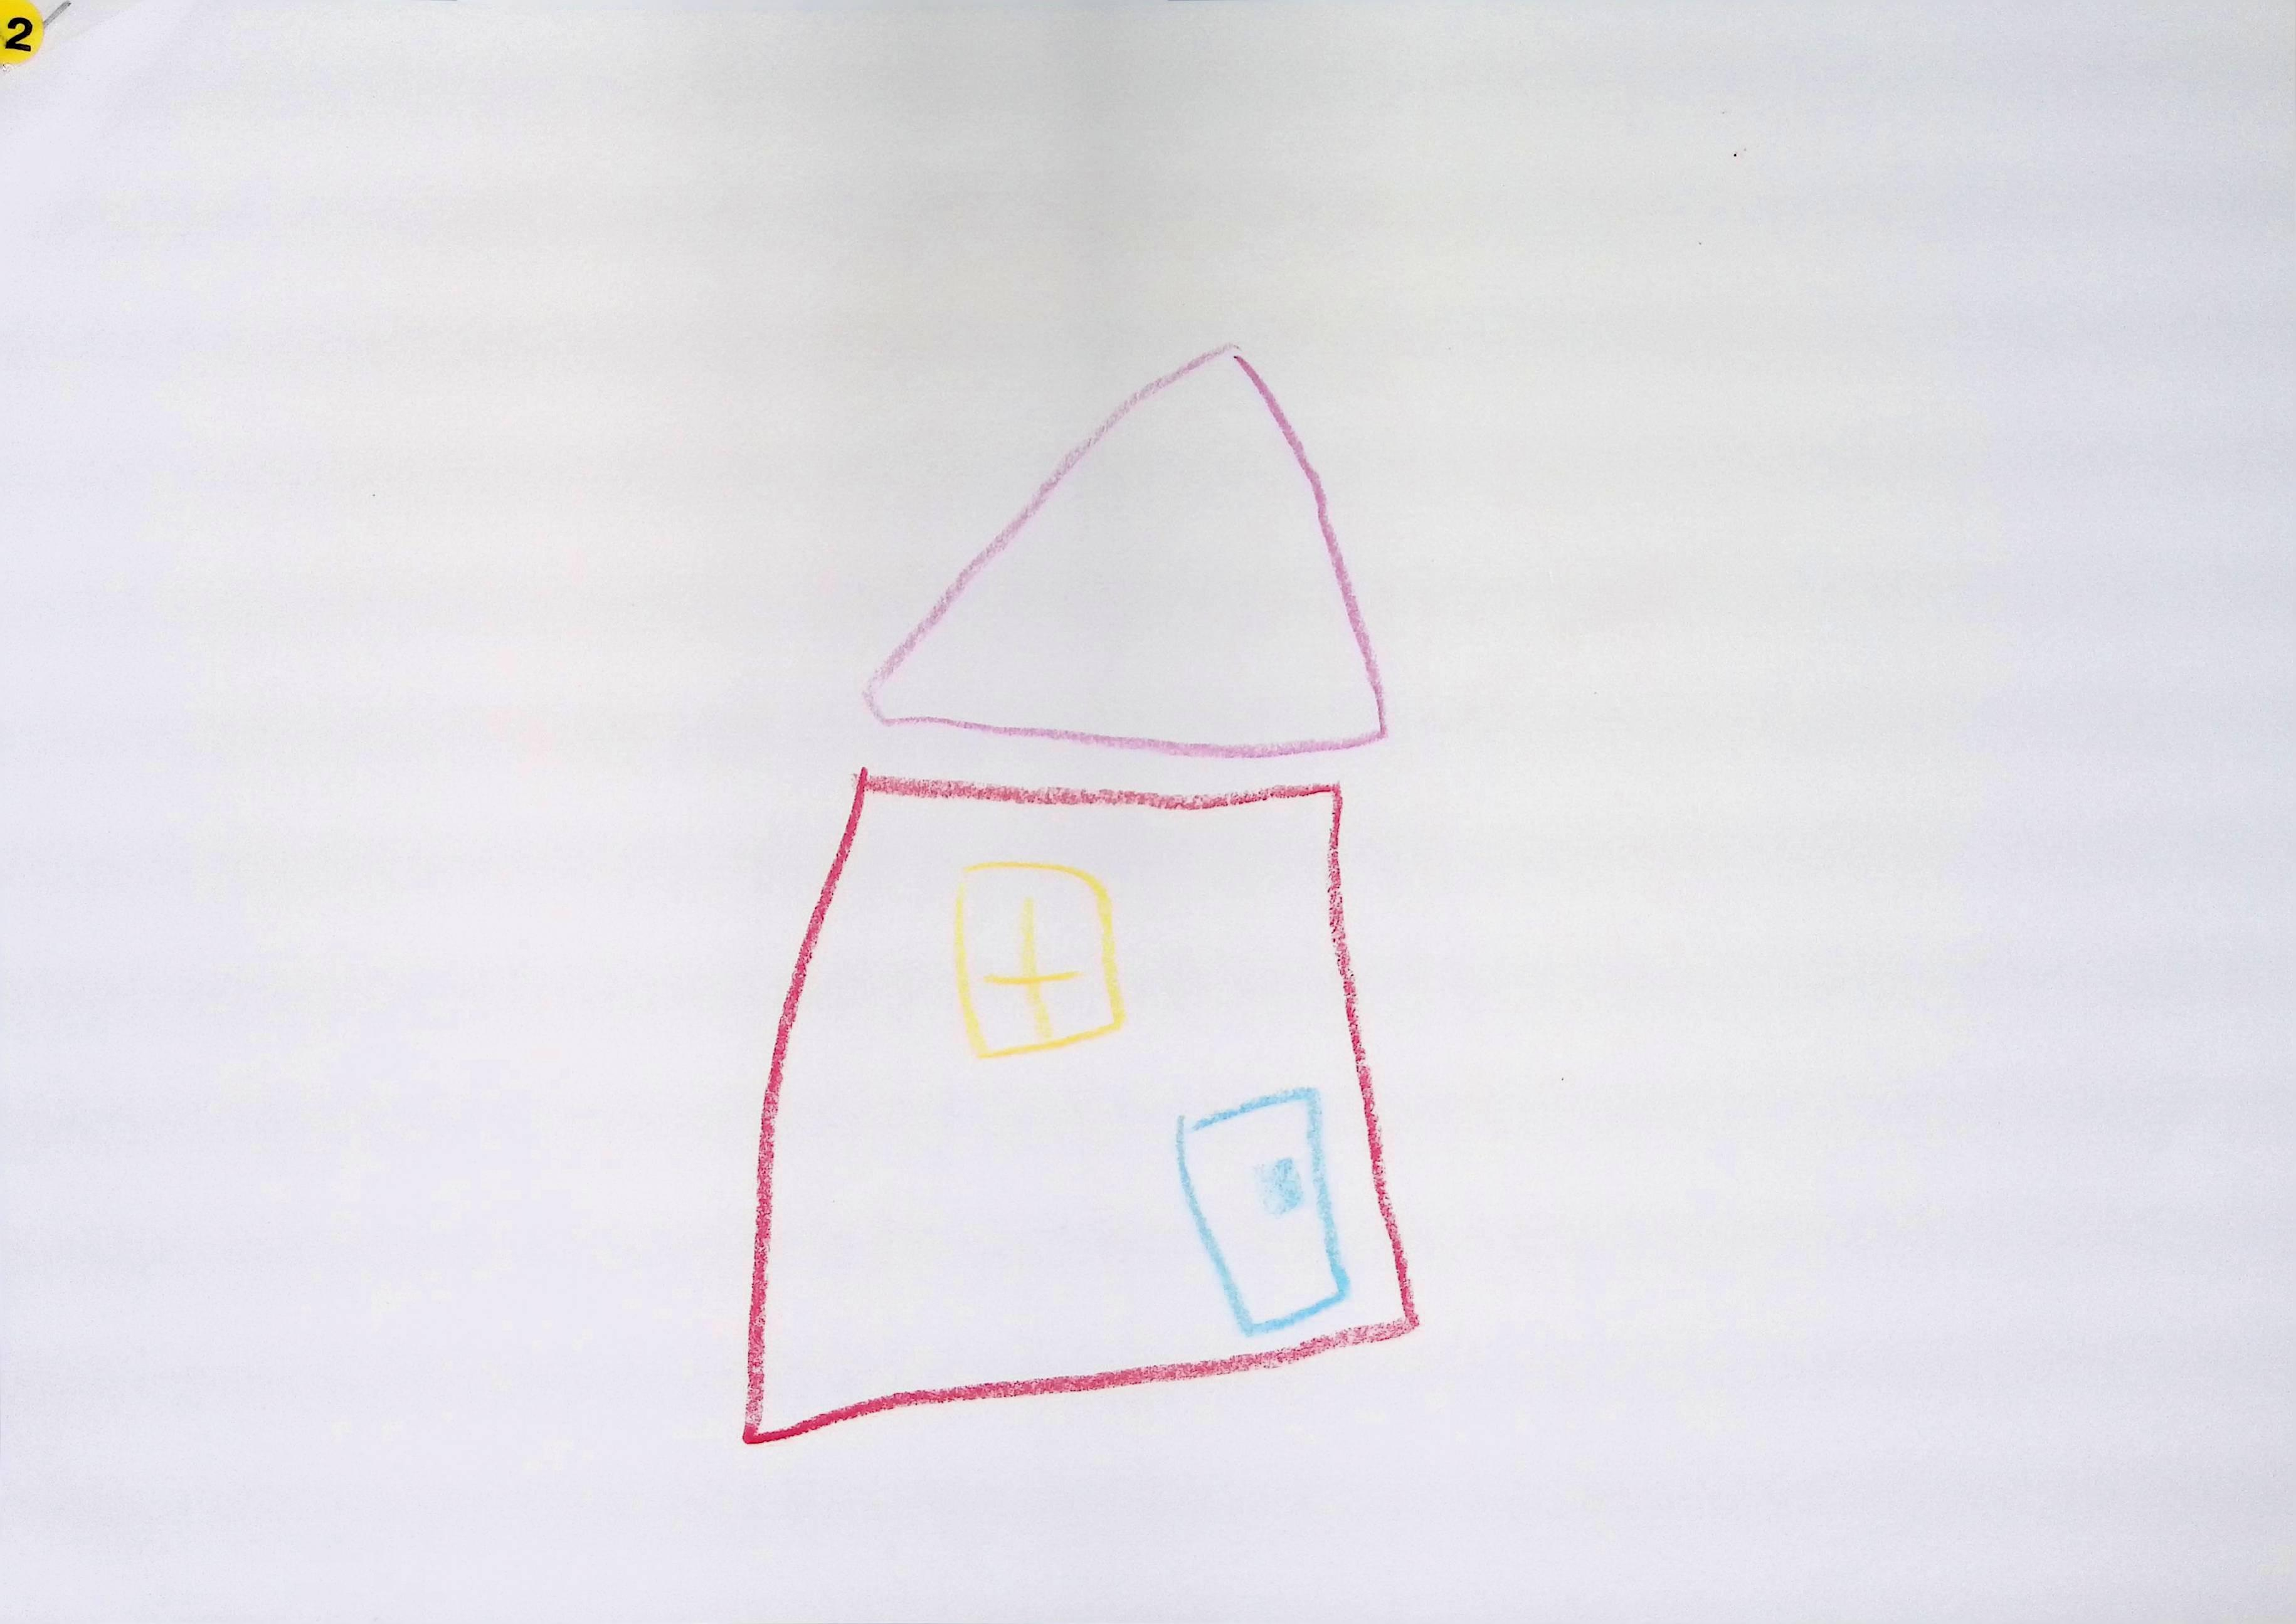door: (1180, 1088, 1348, 1336)
roof: (865, 341, 1387, 756)
wall: (744, 773, 1417, 1443)
window: (956, 861, 1123, 1056)
